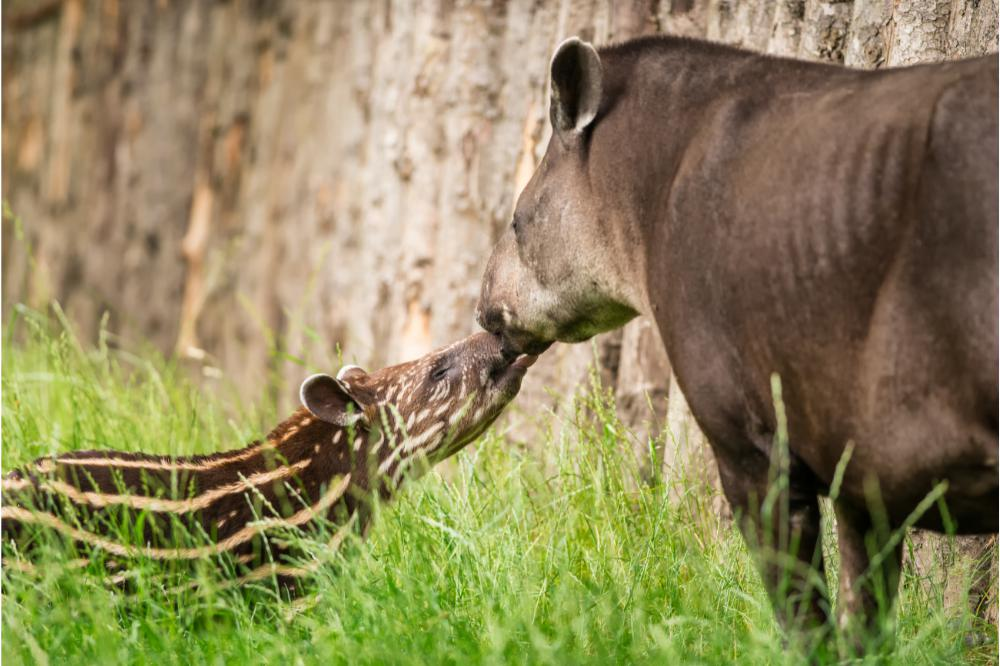Anta: (481, 23, 975, 630), (10, 320, 544, 621)
